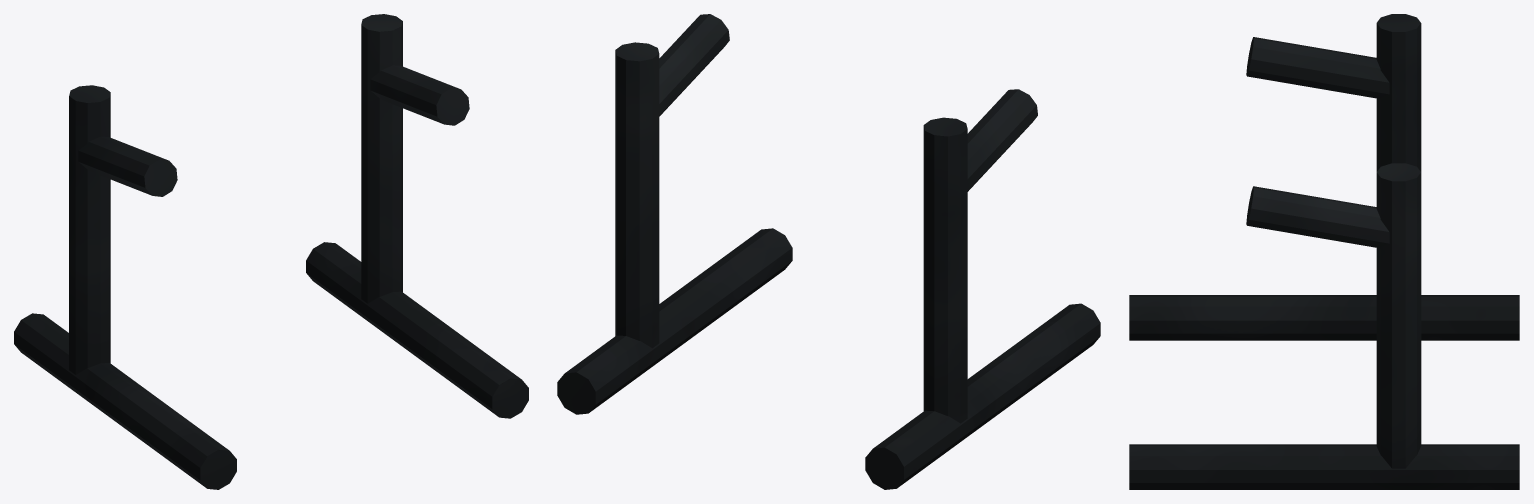
File: 17_Cello_Stand.fbx
3 renders of one model, left to right at view 1: azimuth 30°, elevation 25°; view 2: azimuth 150°, elevation 25°; view 3: azimuth 270°, elevation 25°, orthographic. The views are drawn at different scales.
Visible parts, largest first — view 1: 17_Cello_Stand; view 2: 17_Cello_Stand; view 3: 17_Cello_Stand.
Part boxes in pixels (bbox=[...]): 17_Cello_Stand: bbox=[14, 14, 528, 489]; 17_Cello_Stand: bbox=[557, 14, 1100, 489]; 17_Cello_Stand: bbox=[1129, 14, 1519, 489].
Size of the model in its own units: 42.76 by 37.5 by 42.
Materials: 1 (1 with a texture image).
